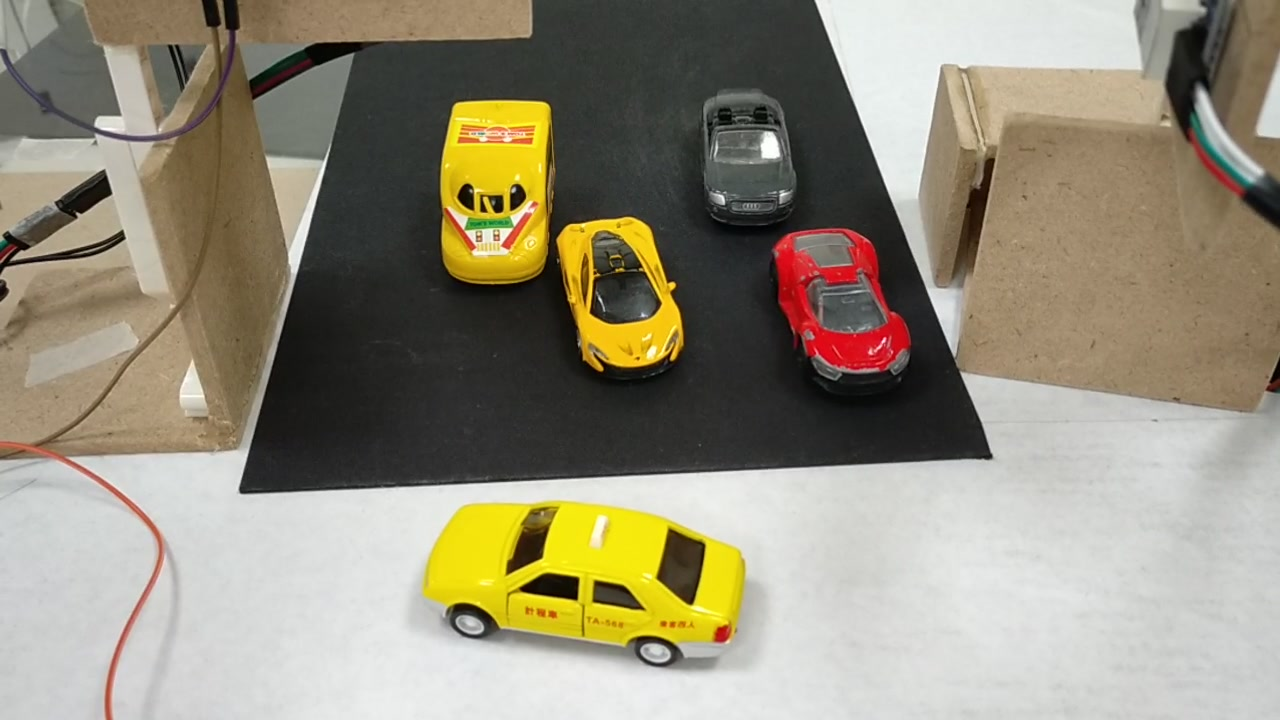car: (427, 501, 745, 674), (773, 233, 911, 392), (565, 231, 684, 377), (694, 88, 795, 224)
